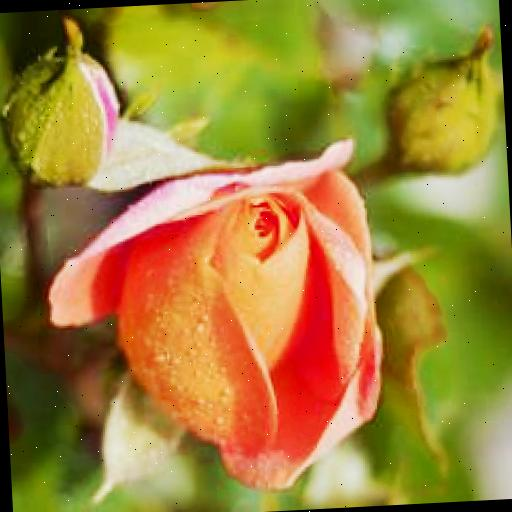rose: (41, 131, 392, 500)
